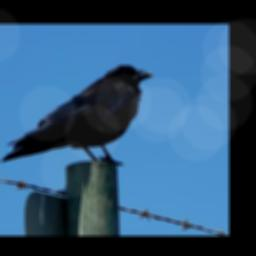Crow: (0, 63, 156, 167)
